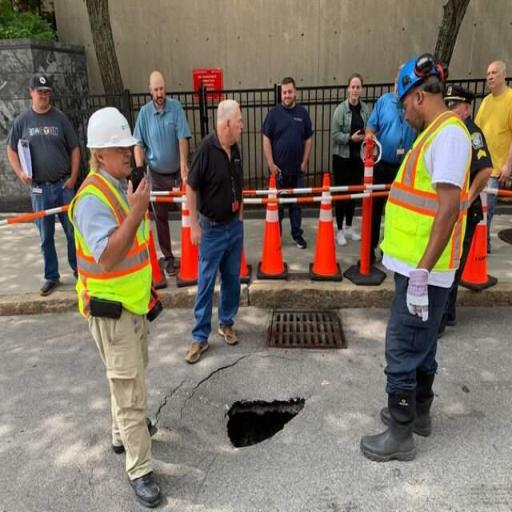Concentric_Crack: (217, 396, 306, 453)
